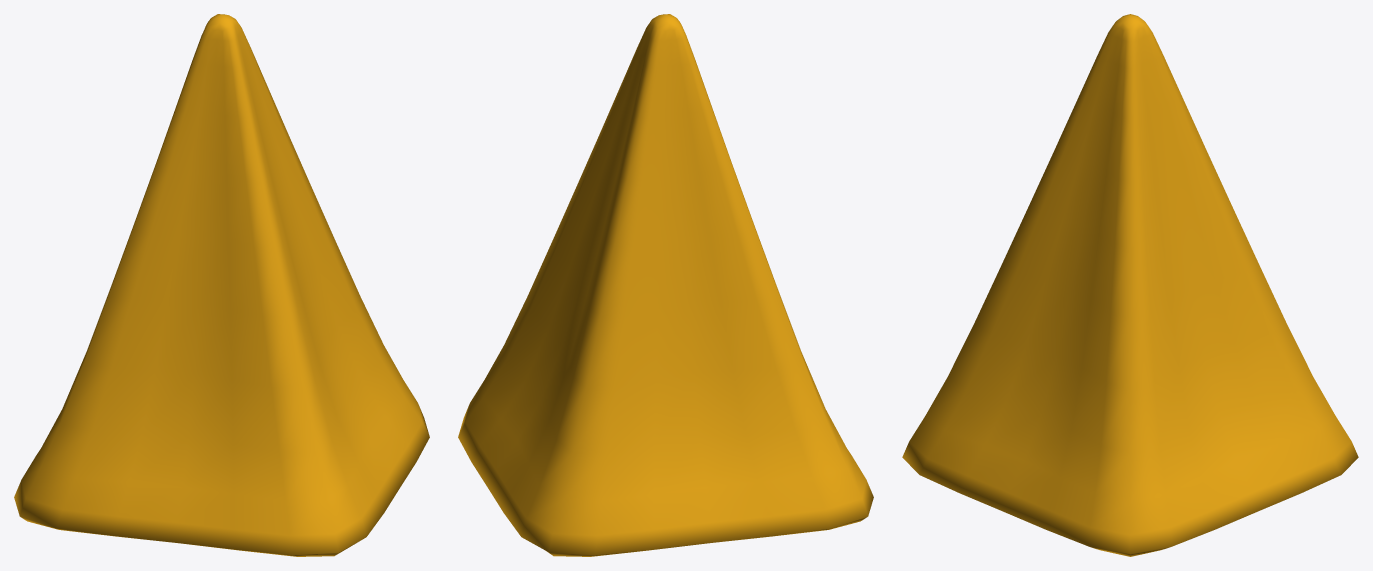
The model's file is city_Particles.fbx.
3 views of the same model, side by side, from view 1: azimuth 30°, elevation 25°; view 2: azimuth 150°, elevation 25°; view 3: azimuth 270°, elevation 25° (orthographic). The views are drawn at different scales.
Visible parts, largest first — view 1: Fire; view 2: Fire; view 3: Fire.
Boxes of the visible parts, x1,y1,x2,y2 form: Fire: (14,14,429,556); Fire: (458,14,873,556); Fire: (902,14,1358,556).
Size of the model in its own units: 0.3367 by 0.4144 by 0.3367.
